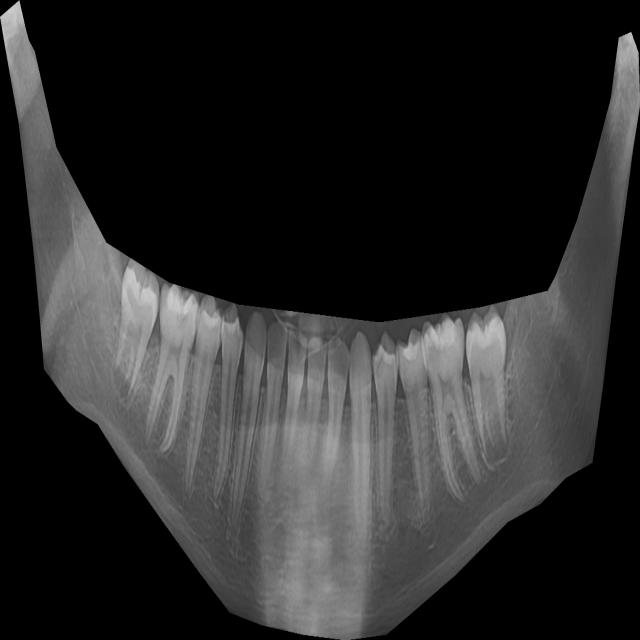mandibula: (0, 0, 640, 640)
